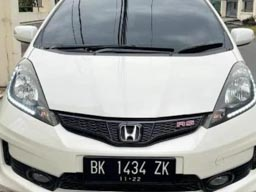plat: (83, 157, 176, 175)
